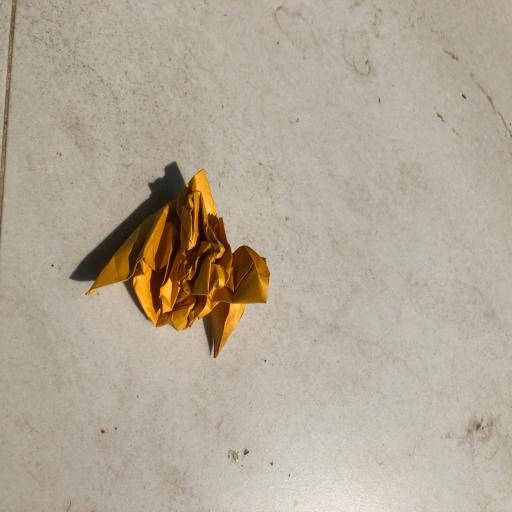waste: (78, 158, 288, 366)
